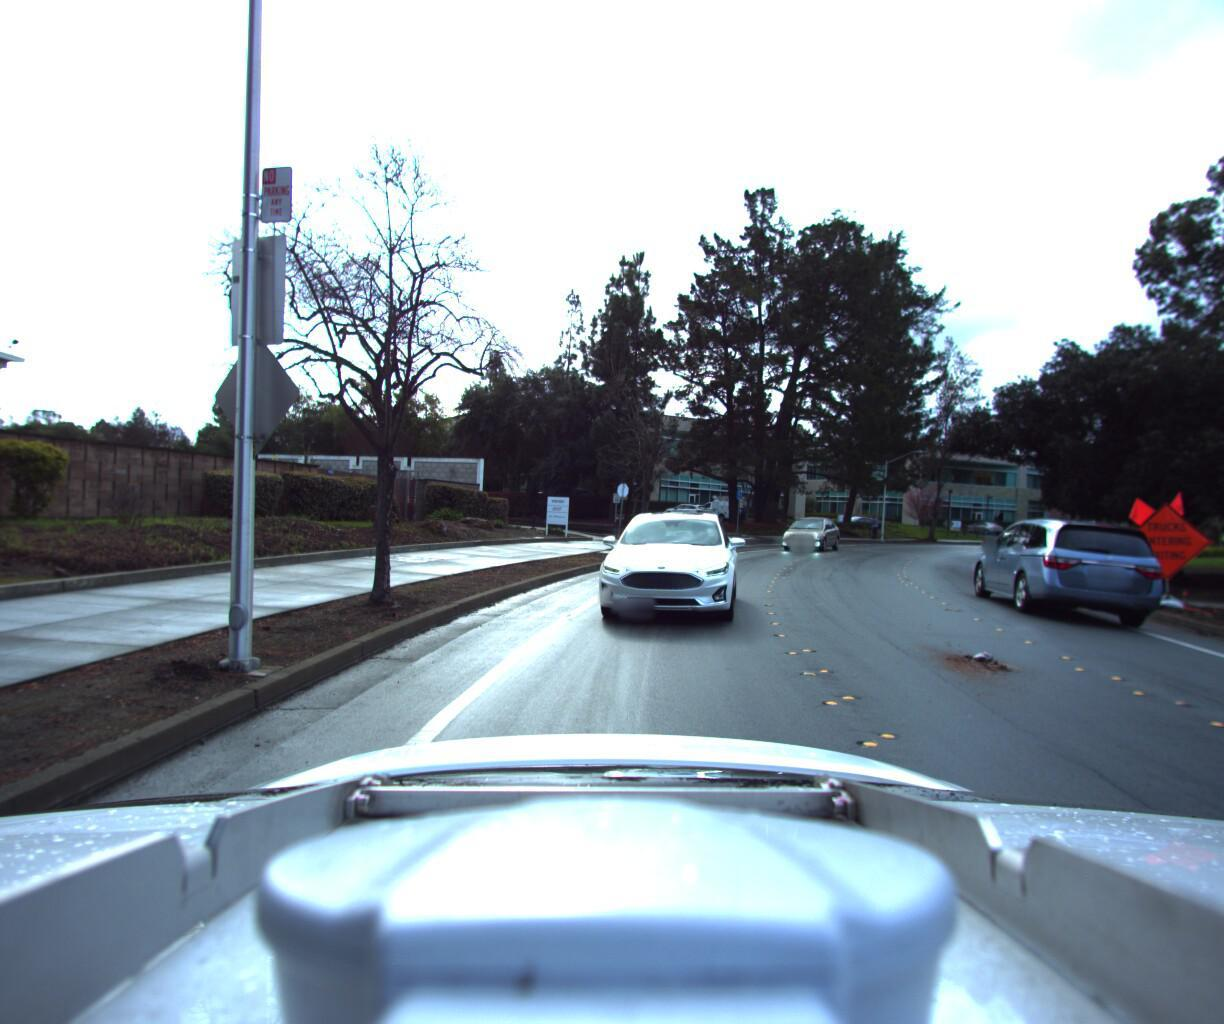car: (585, 506, 756, 642), (956, 519, 1144, 626), (772, 514, 842, 554)
